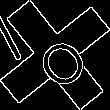O_NW: (22, 22, 88, 88)
